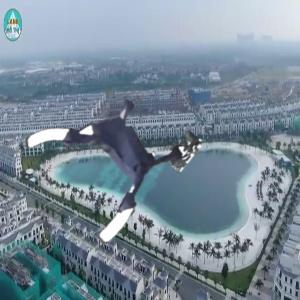drone: (33, 83, 178, 228)
